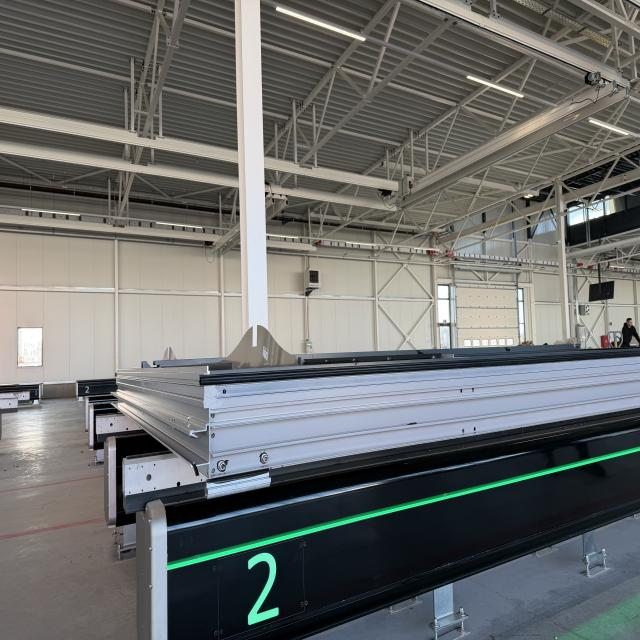lim_nedostaje: (140, 326, 304, 376)
